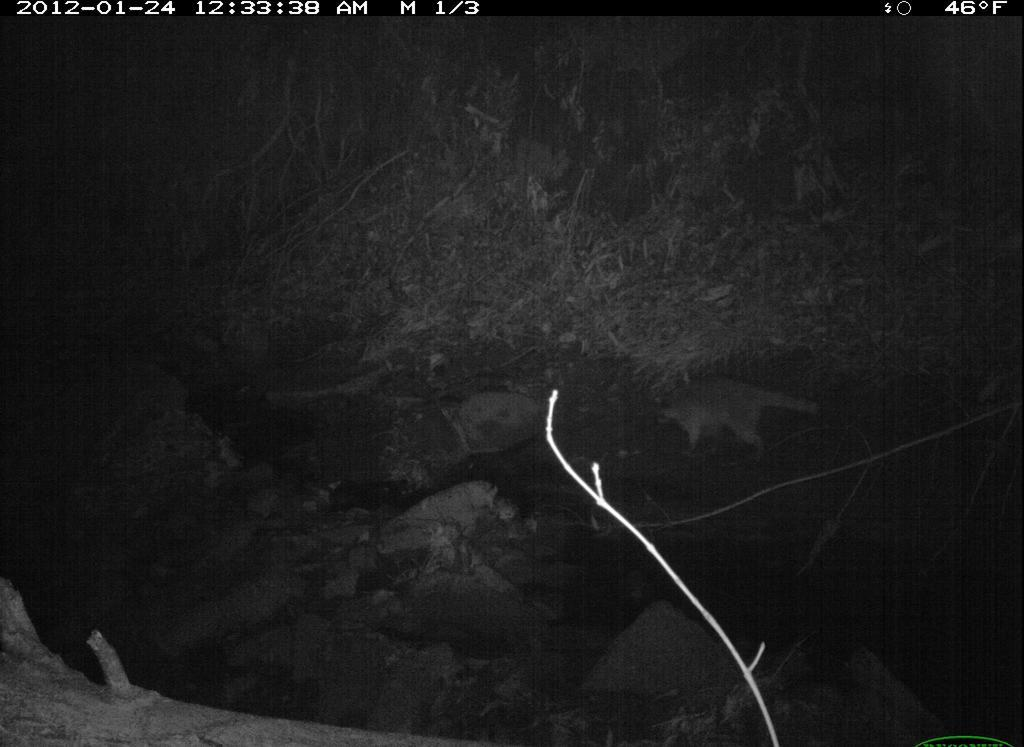raccoon: (620, 370, 831, 465)
